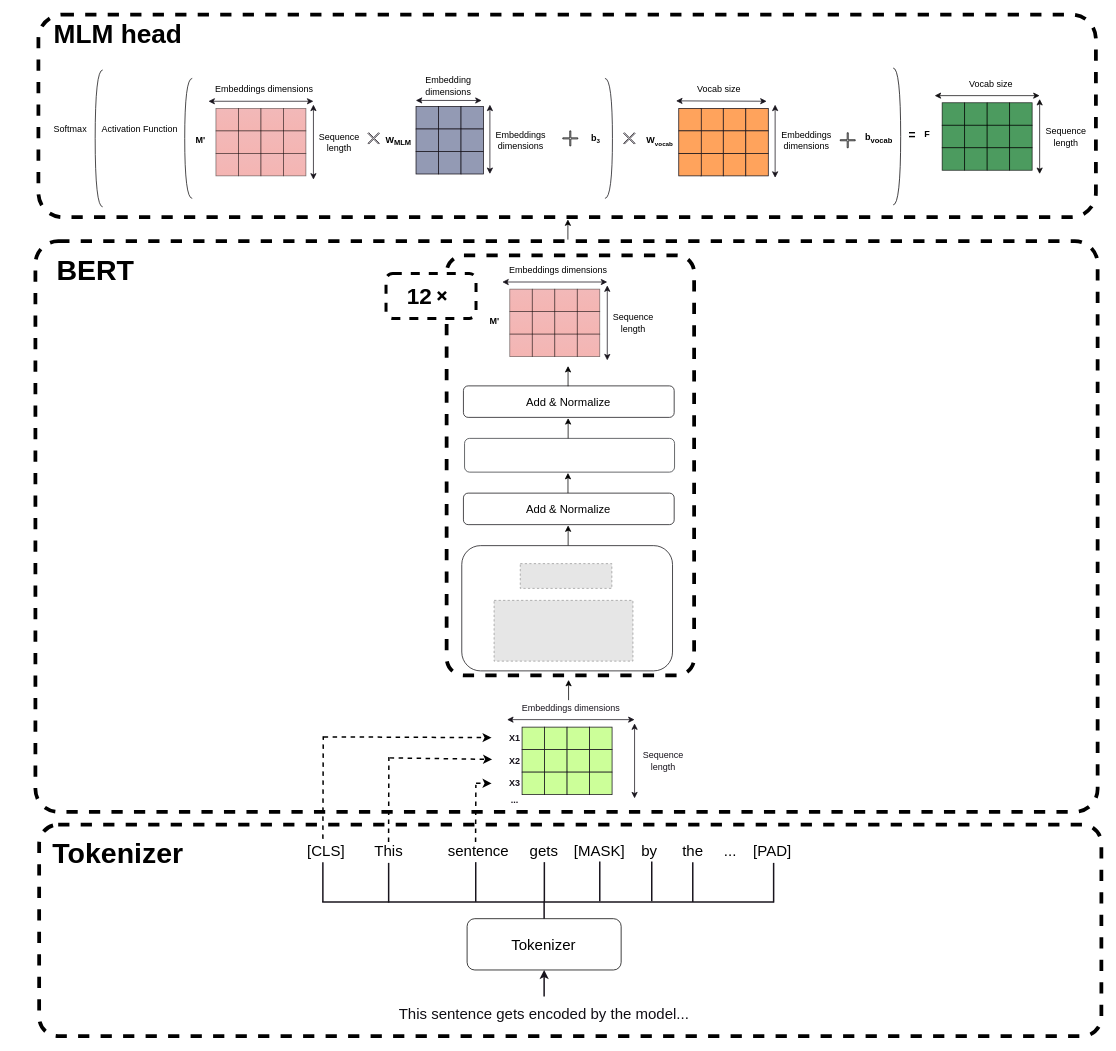
Image size: 1116x1051. Some labels were removed from this diagram. Grey dashed boxes stand in for pictures. The shapes that lost their labels are listed below. From the top down, each one's box as (x1, y1, x2, y2) in pixels, then its label:
(464, 438, 675, 472): Feed-forward NN W 2 ⋅ σ ( W 1 ⋅ Z + b 1 ) + b 2
(461, 545, 673, 671): Self-attention mechanism Where:
